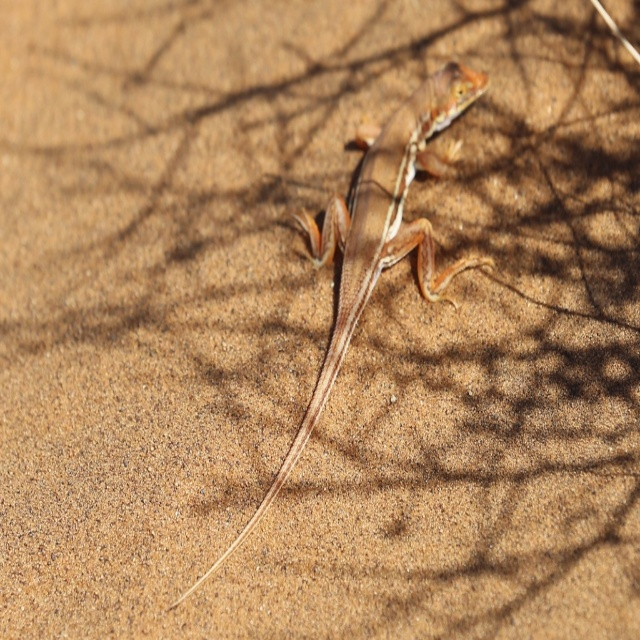Lizard: (242, 61, 482, 585)
